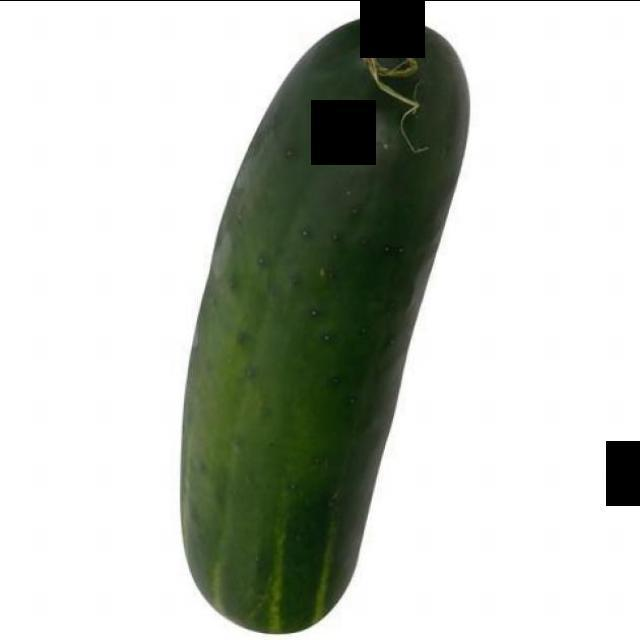cucumber: (172, 3, 474, 640)
